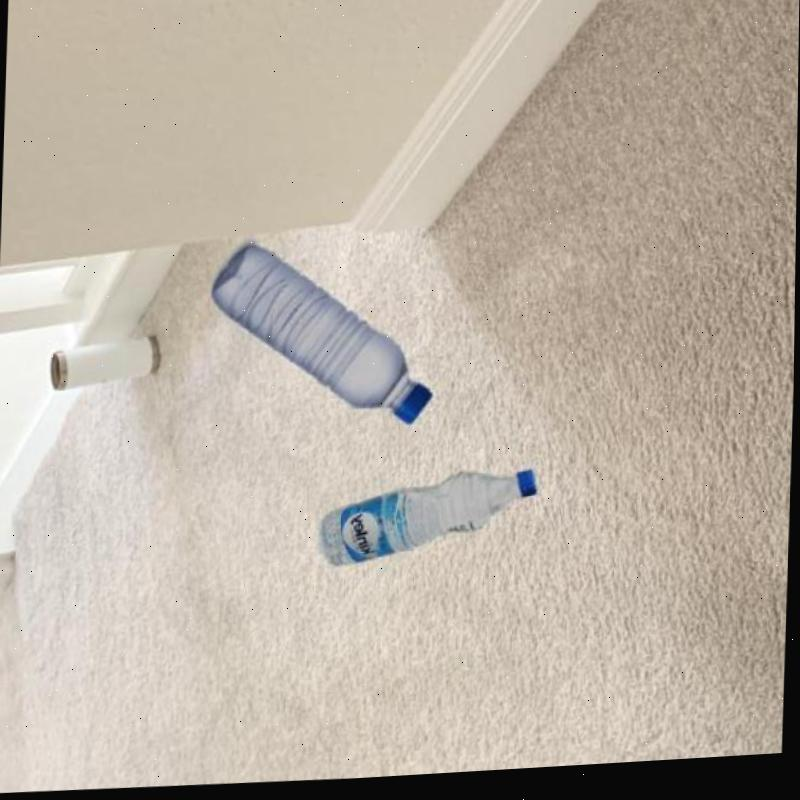botella: (208, 236, 438, 440), (320, 471, 541, 574)
